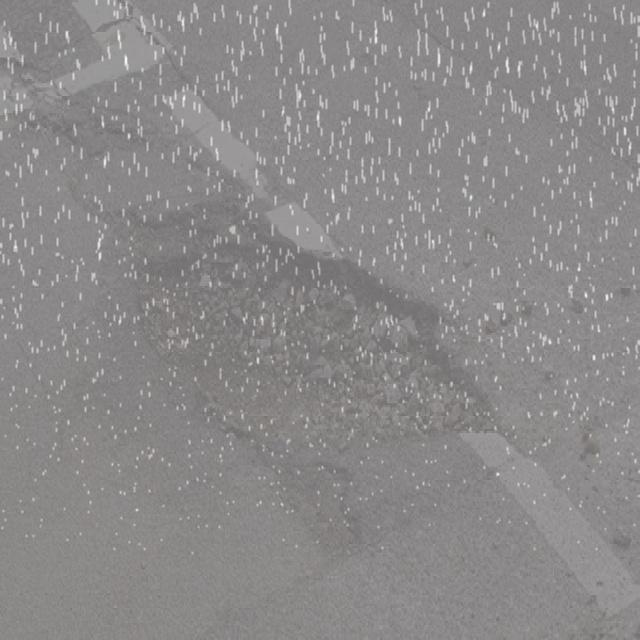Pothole: (108, 214, 528, 580)
